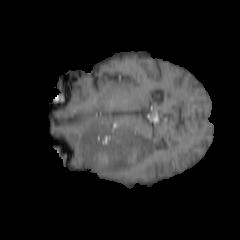glioma: (77, 119, 159, 175)
